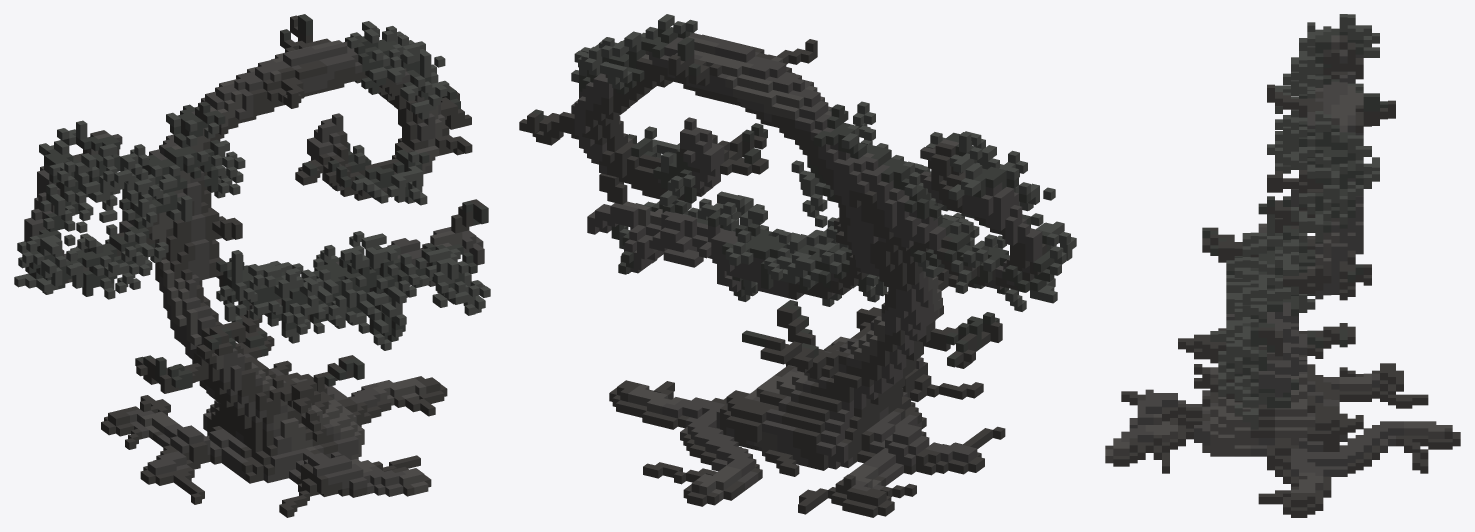
File: SM-1-Tree.glb
3 views of the same model, side by side, from view 1: azimuth 30°, elevation 25°; view 2: azimuth 150°, elevation 25°; view 3: azimuth 270°, elevation 25° (orthographic). The views are drawn at different scales.
Visible parts, largest first — view 1: SM-1-Tree; view 2: SM-1-Tree; view 3: SM-1-Tree.
Part boxes in pixels (left/top/right/bottom): SM-1-Tree: left=14, top=14, right=490, bottom=517; SM-1-Tree: left=519, top=14, right=1076, bottom=517; SM-1-Tree: left=1105, top=14, right=1460, bottom=517.
Size of the model in its own units: 6.6 by 5.1 by 4.4.
Materials: 1 (1 with a texture image).
